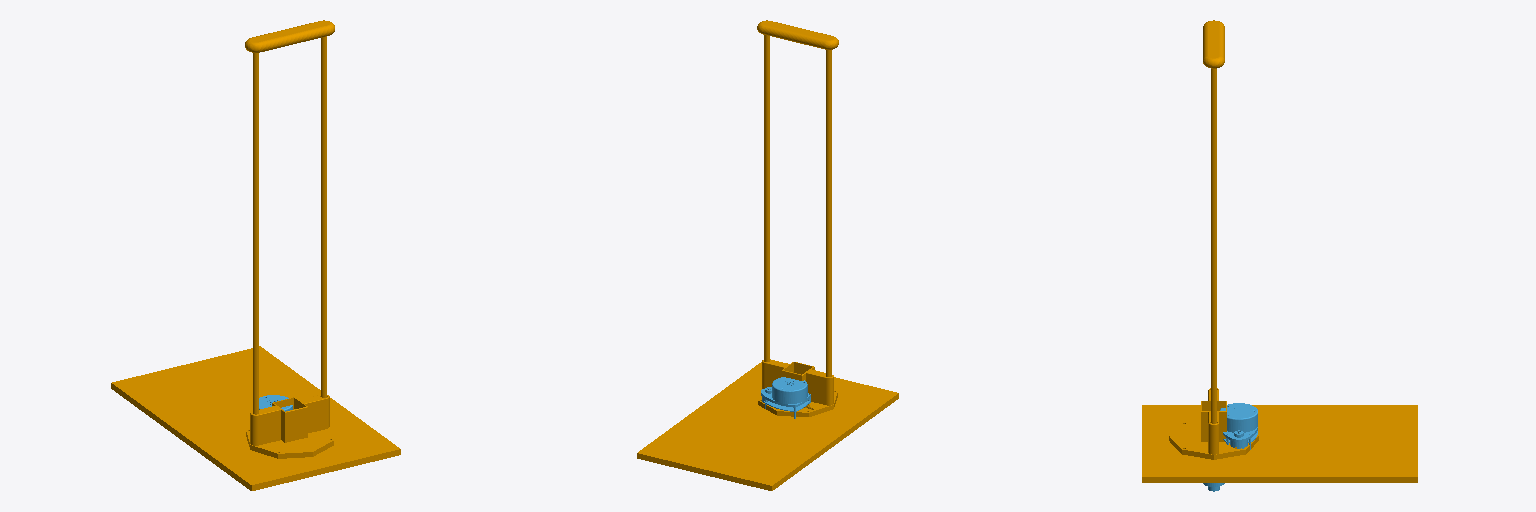
URDF robot description (scanner):
<robot name="scanner">

  <link name="lidar_origin" >
    <visual>
      <geometry>
        <mesh filename="package://rplidar_ros/meshes/support.STL" scale = "0.001 0.001 0.001" />
      </geometry>
      <origin xyz="-0.158 -0.51 0" rpy="0 0 0"/>
    </visual>
  </link>
  <link name="lidar_platform" >
    <visual>
      <geometry>
        <mesh filename="package://rplidar_ros/meshes/platform.STL" scale = "0.001 0.001 0.001" />
      </geometry>
      <origin xyz="-0.091 -0.02 -0.05" rpy="0 0 0"/>
    </visual>
  </link>

  <joint name="rail" type="prismatic">
    <parent link="lidar_origin"/>
    <child link="lidar_platform"/>
    <limit effort="1000.0" lower="-0.38" upper="0" velocity="0.5"/>
  </joint>

</robot>

--- Render facts (derived) ---
The picture shows the robot from 3 angles, left to right: view 1: azimuth 30°, elevation 25°; view 2: azimuth 150°, elevation 25°; view 3: azimuth 270°, elevation 25°; orthographic projection.
Robot: scanner — 2 links, 1 joints (1 prismatic); root link lidar_origin; default pose: every joint at zero.
Links seen in each view (by area): view 1: lidar_origin; view 2: lidar_origin, lidar_platform; view 3: lidar_origin, lidar_platform.
Boxes of the visible links, left/top/right/bottom form: lidar_origin: left=111, top=20, right=400, bottom=490; lidar_origin: left=637, top=20, right=898, bottom=490; lidar_platform: left=761, top=377, right=810, bottom=418; lidar_origin: left=1142, top=20, right=1417, bottom=482; lidar_platform: left=1203, top=403, right=1257, bottom=491.
Bounding box of the posed robot: 0.307 × 0.5 × 0.8668 m (x, y, z).
Meshes: 2 distinct files referenced, 2 mesh visuals loaded (2 binary STL).